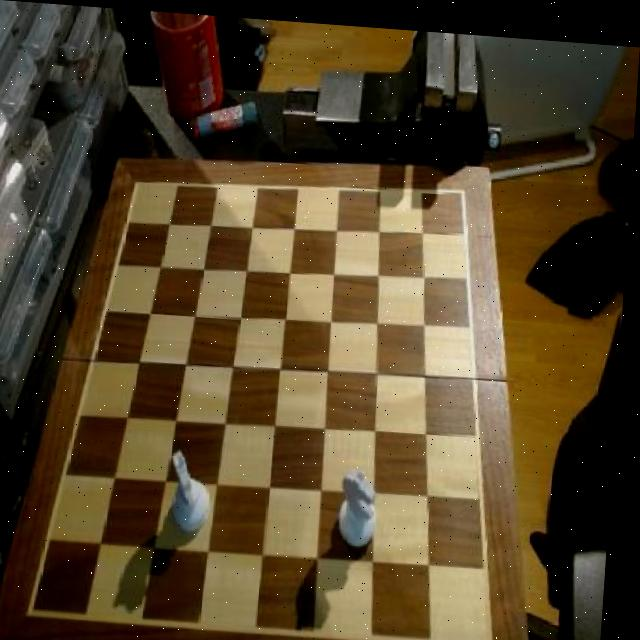white-king: (171, 442, 222, 532), (342, 460, 391, 544)
